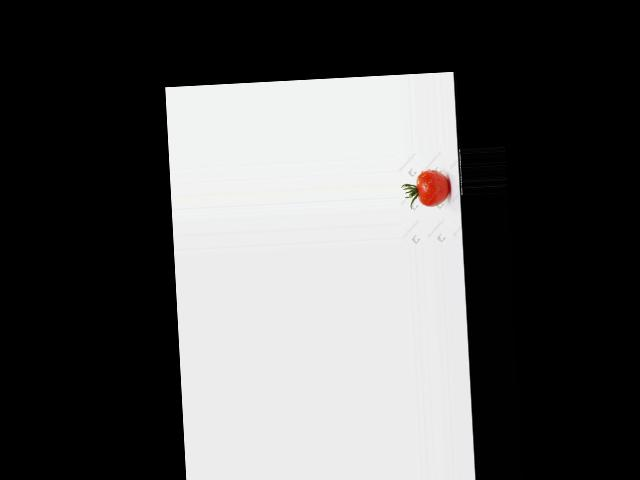tomato: (416, 169, 450, 207)
